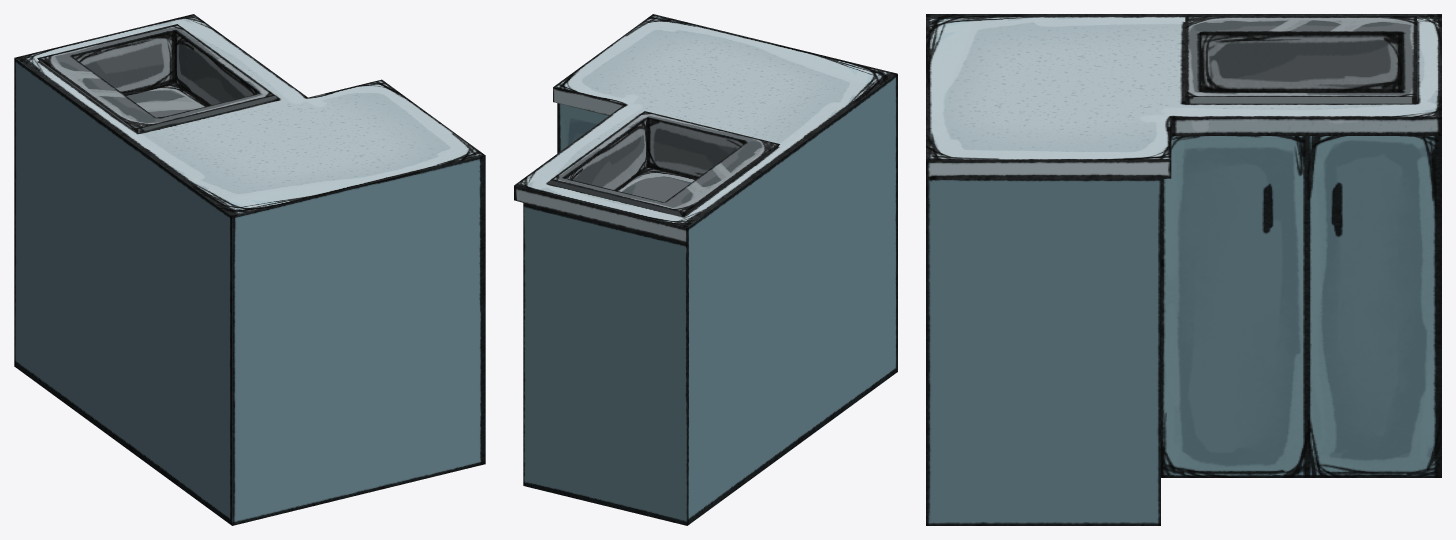
File: sink_final.fbx
The picture shows the model from 3 angles, left to right: view 1: azimuth 30°, elevation 25°; view 2: azimuth 150°, elevation 25°; view 3: azimuth 270°, elevation 25°; orthographic projection. The views are drawn at different scales.
Parts seen in each view (by area): view 1: sink.001; view 2: sink.001; view 3: sink.001.
Part boxes in pixels (x1,y1,x2,y2): sink.001: (14,14,485,525); sink.001: (514,14,897,525); sink.001: (926,14,1441,525).
Size of the model in its own units: 1.23 by 1.45 by 1.83.
Materials: 1 (1 with a texture image).
